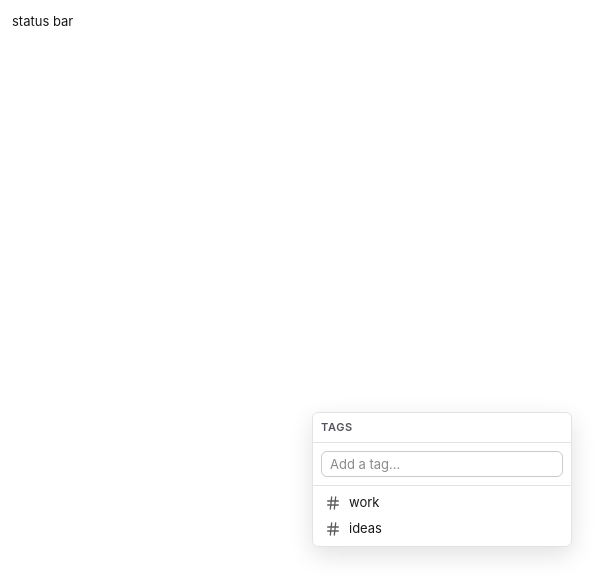
Test case: TagEditor › filters as you type, so existing names complete
The image size is (594, 577).
Type "wor" into the field with test id "tag-editor-input" at [442, 464], box [321,450,563,476]
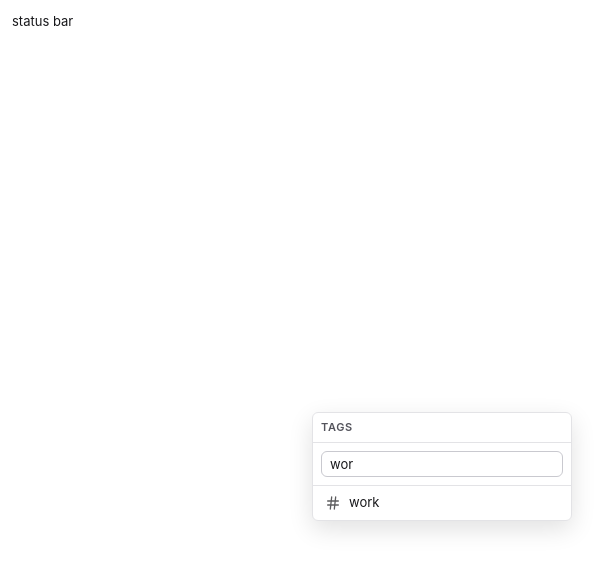
Expected: the option reads "work", [325,494,379,511]
Expected: the number of options is 1, [325,494,379,511]
